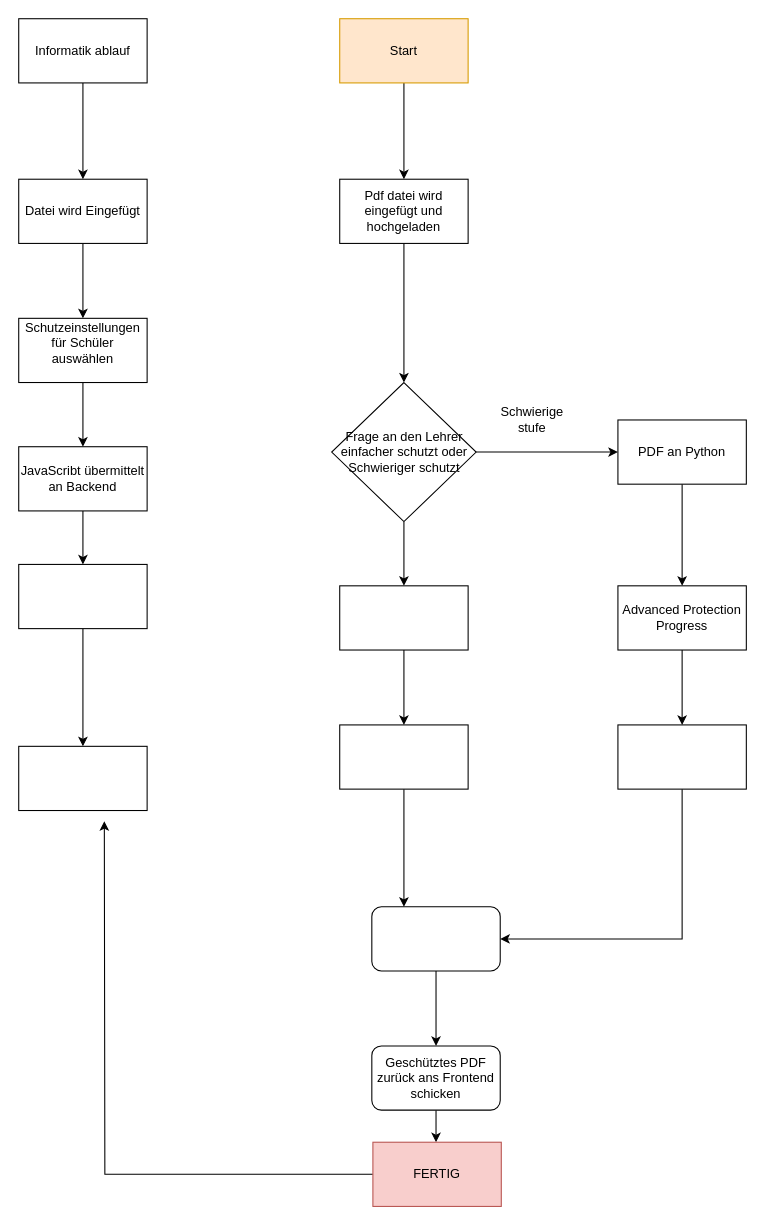
Some shapes in this 765 by 1225 pixel diagram are drawn without their labels. The centre of each missing label's shape, as x and y in pixels:
Backend Konventiert Datei und verarbeitet File: point (82, 596)
Easy Progress: point (403, 617)
Fertige Datei wird über JavaScribt zurück an Frontend per API-Call geschickt: point (82, 778)
Geschütztes PDF von Lehrer erstellen: point (435, 938)
PDF wird an Python-Backendübermittelt: point (681, 756)
